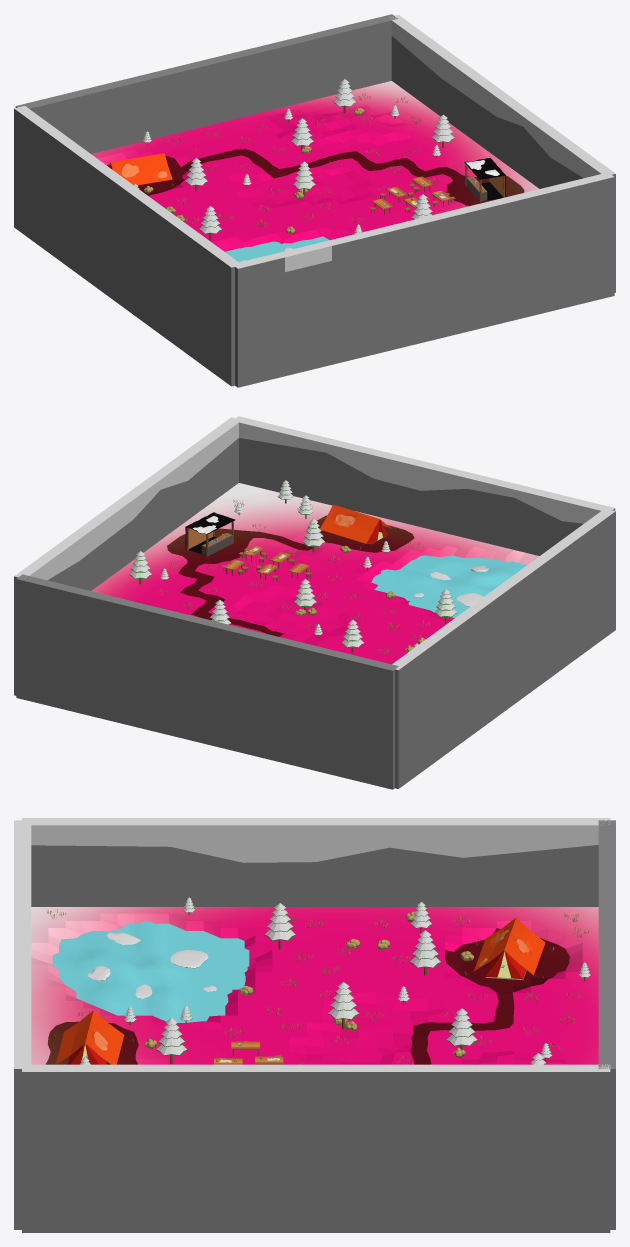
Rendered from RoomSnow.fbx.
3 renders of one model, top to bottom at view 1: azimuth 30°, elevation 25°; view 2: azimuth 150°, elevation 25°; view 3: azimuth 270°, elevation 25°, orthographic. The views are drawn at different scales.
Parts seen in each view (by area): view 1: Cube.002, Plane, Cube.031, Cube.029, Cube.030, Tent2.001, Plane.007, Plane.001; view 2: Cube.029, Plane, Cube.031, Cube.002, Cube.030, Plane.001, Tent2.003, Plane.007; view 3: Cube.030, Plane, Cube.031, Plane.001, Cube.002, Cube.029, Tent2.001, Tent2.003, Cone.023, Cone.010, Cone.009, Cone.008 (+2 smaller).
Part boxes in pixels (box(x1,y1,x2,y2)): Cube.002: box(232, 172, 614, 387); Plane: box(91, 81, 538, 251); Cube.031: box(14, 106, 241, 386); Cube.029: box(15, 14, 397, 153); Cube.030: box(390, 14, 615, 292); Tent2.001: box(108, 153, 173, 186); Plane.007: box(464, 157, 506, 201); Plane.001: box(225, 236, 329, 261); Cube.029: box(16, 574, 398, 789); Plane: box(91, 483, 539, 664); Cube.031: box(392, 508, 615, 788); Cube.002: box(232, 416, 615, 555); Cube.030: box(14, 417, 238, 695); Plane.001: box(371, 555, 526, 617); Tent2.003: box(320, 504, 394, 549); Plane.007: box(185, 512, 235, 556); Cube.030: box(22, 1064, 610, 1232); Plane: box(31, 907, 598, 1064); Cube.031: box(22, 818, 610, 906); Plane.001: box(52, 921, 249, 1022); Cube.002: box(14, 820, 31, 1229); Cube.029: box(598, 820, 615, 1229); Tent2.001: box(464, 917, 554, 979); Tent2.003: box(54, 1010, 133, 1064); Cone.023: box(328, 982, 359, 1029); Cone.010: box(156, 1018, 187, 1064); Cone.009: box(264, 903, 295, 949); Cone.008: box(409, 930, 440, 975).
Size of the model in its own units: 2113 by 624 by 2117.
